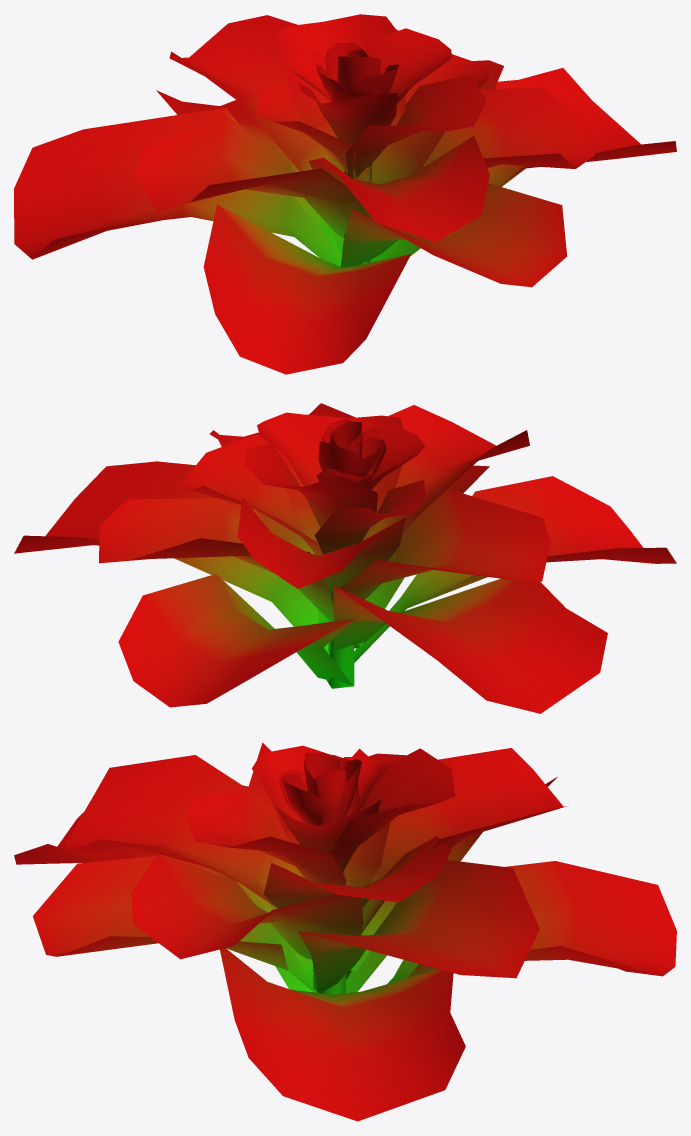
File: White Ornamental Kale_LOD3_Var4_ue3ldcgja.fbx
3 views of the same model, one above another, from view 1: azimuth 30°, elevation 25°; view 2: azimuth 150°, elevation 25°; view 3: azimuth 270°, elevation 25° (orthographic). The views are drawn at different scales.
Parts seen in each view (by area): view 1: _3bfd_Var4_LOD3; view 2: _3bfd_Var4_LOD3; view 3: _3bfd_Var4_LOD3.
Part boxes in pixels (x1,y1,x2,y2): _3bfd_Var4_LOD3: [14, 14, 676, 374]; _3bfd_Var4_LOD3: [14, 403, 676, 713]; _3bfd_Var4_LOD3: [14, 742, 676, 1121].
Size of the model in its own units: 79.94 by 33.94 by 70.08.
